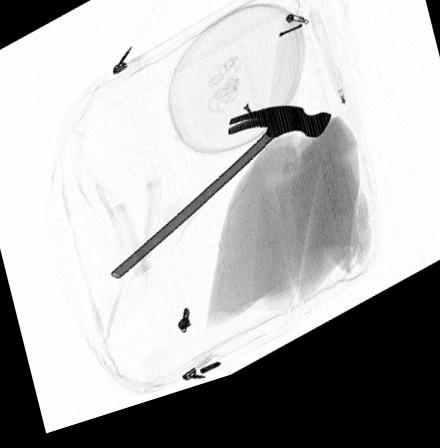Hammer: (108, 122, 331, 286)
